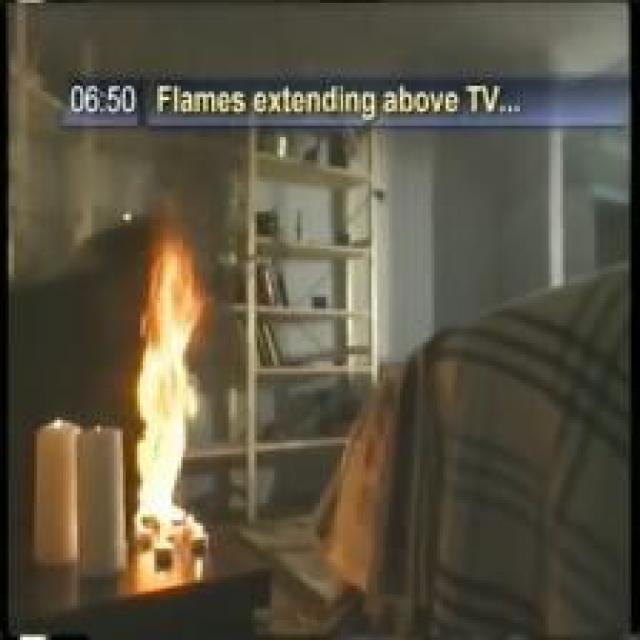fire: (136, 218, 216, 554)
